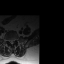CCS_normal: (11, 38, 12, 45)
LFS_stenosis: (14, 37, 15, 41)
LLS_normal: (12, 39, 14, 44)
RFS_stenosis: (7, 38, 9, 42)
RLS_normal: (9, 38, 11, 44)
